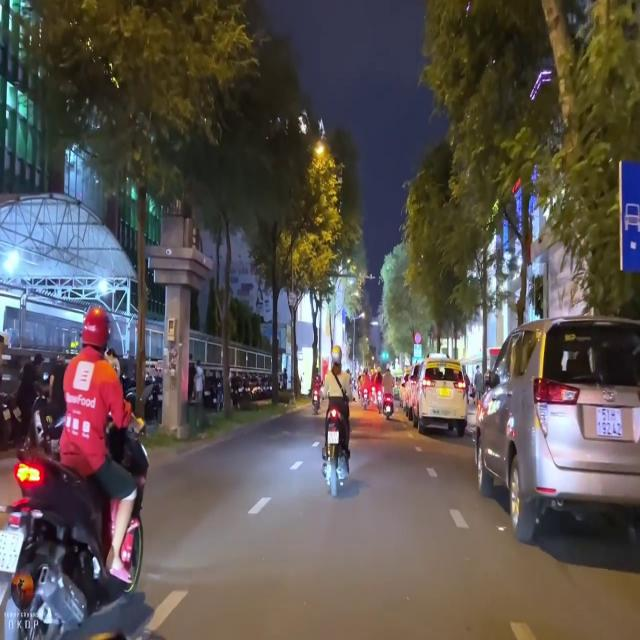bien_trang: (594, 404, 624, 442)
